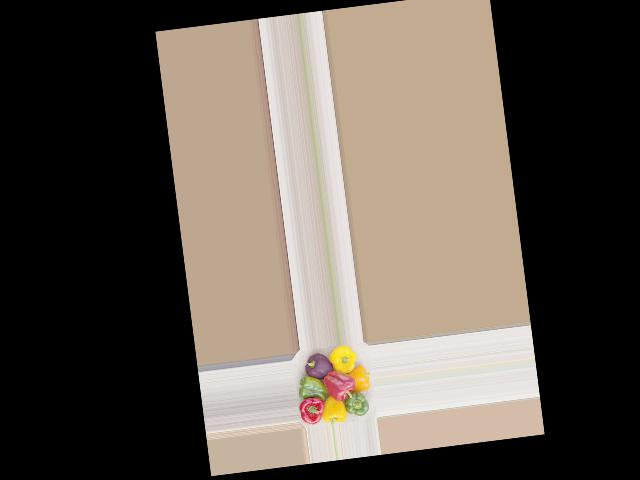bell_pepper: (296, 352, 335, 386)
